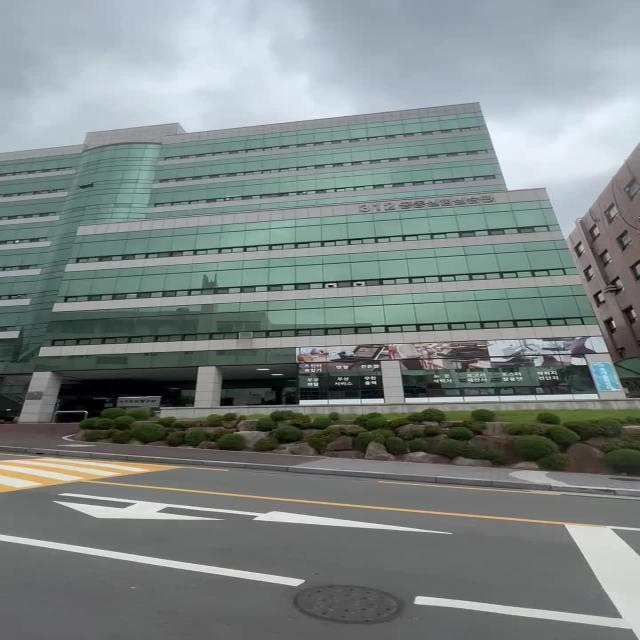building: (18, 109, 599, 326)
